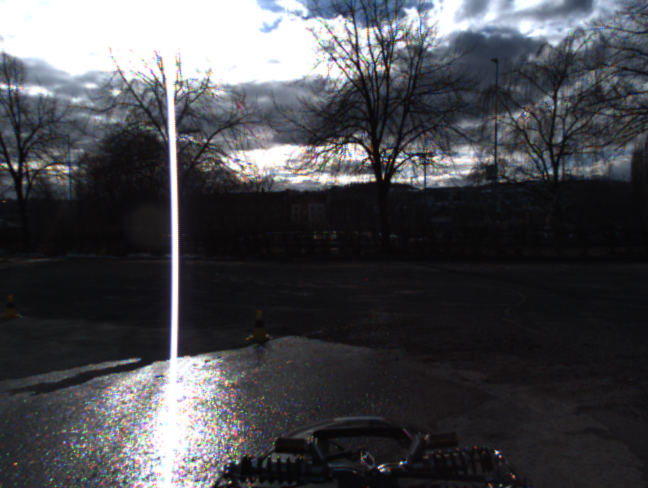cone-small-yellow: (245, 309, 273, 340), (1, 295, 22, 319)
